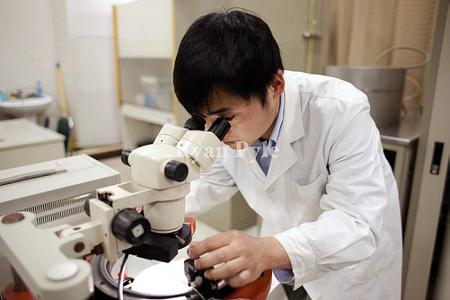person: (172, 10, 404, 300)
